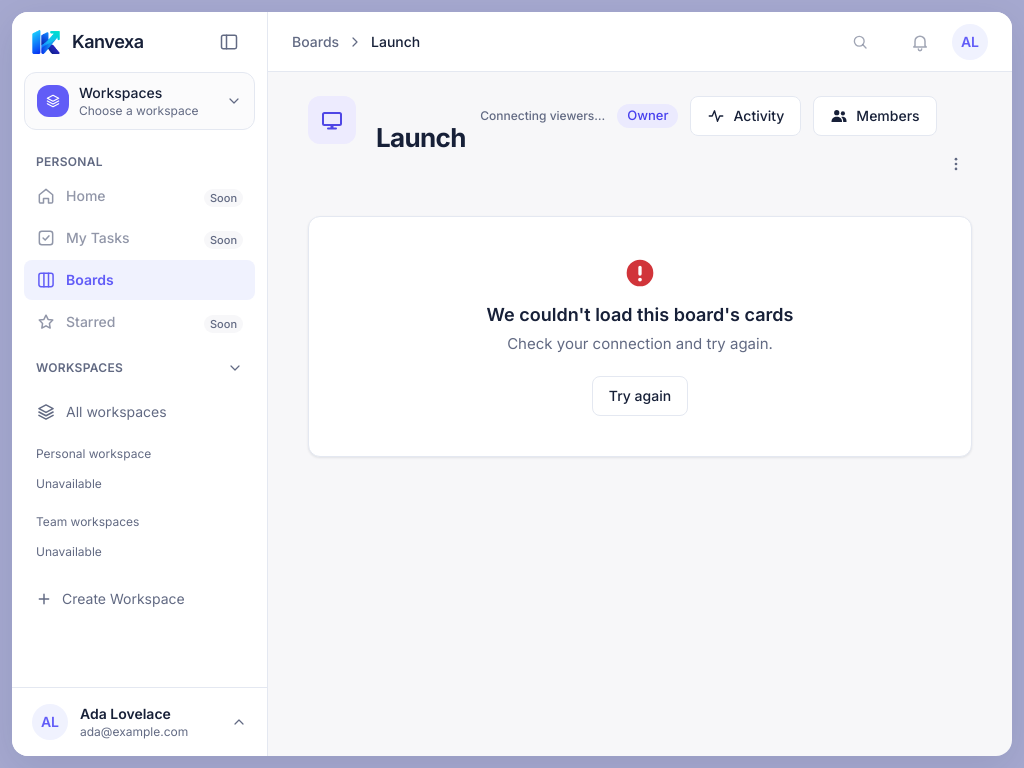
Scenario: KanbanBoard › offers a retry when columns cannot be loaded
Click the button "Try again" at (640, 396), box [592, 376, 688, 416]
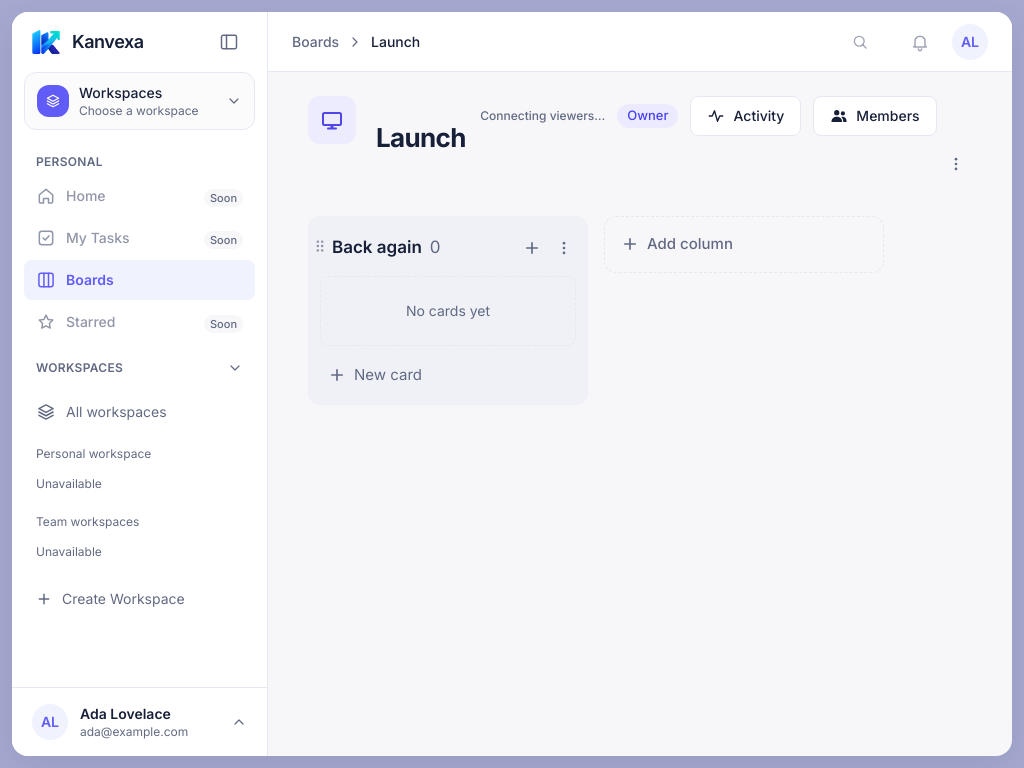
Expected: the heading "Back again" is shown, [332, 235, 422, 261]
